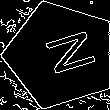N_W: (29, 28, 93, 82)
